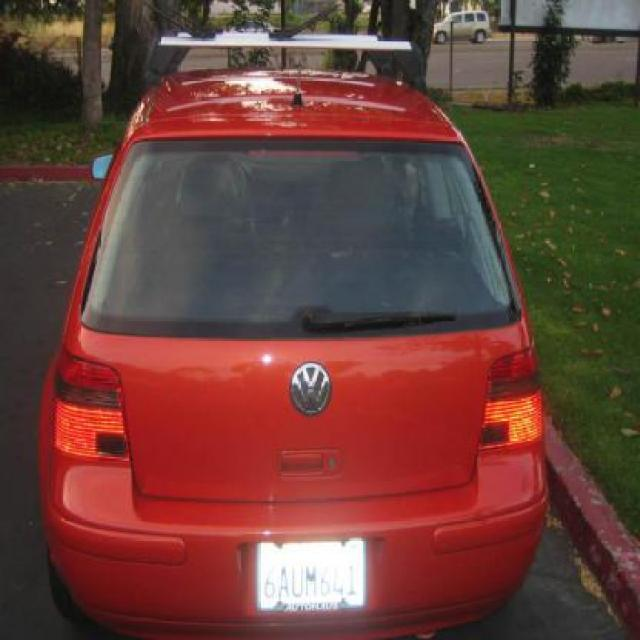License-Plates: (255, 539, 369, 611)
